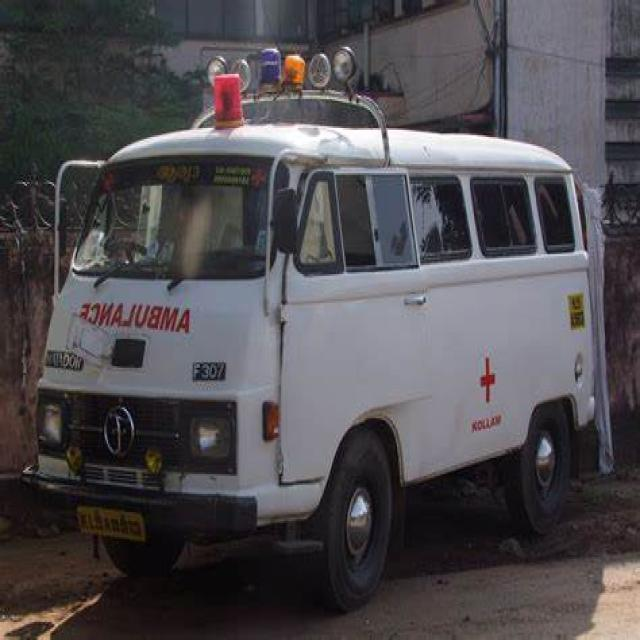ambulance: (206, 42, 246, 139)
